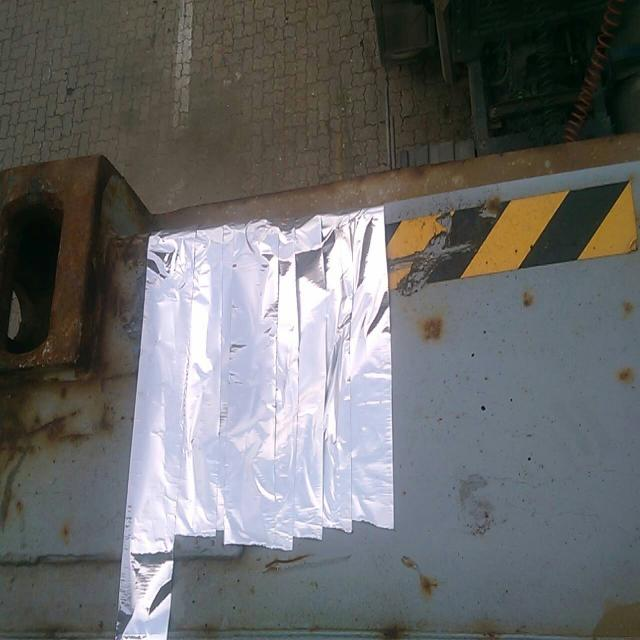rust: (1, 148, 129, 462), (24, 614, 79, 640), (419, 309, 447, 354), (413, 567, 448, 601), (376, 616, 415, 640), (197, 613, 226, 640), (615, 360, 639, 388), (620, 295, 638, 328), (522, 287, 539, 315)
